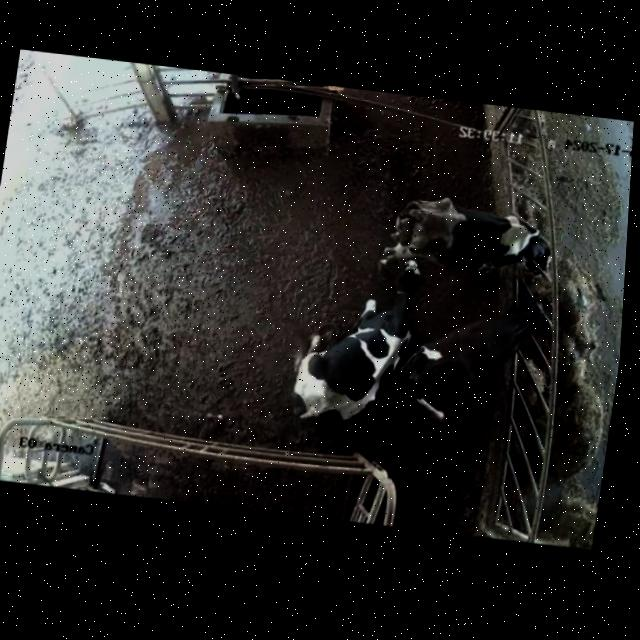eat: (480, 276, 590, 354), (467, 209, 584, 280)
lay: (249, 240, 435, 448)
